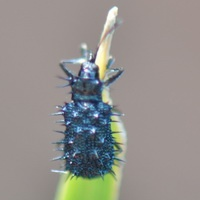insect: (56, 6, 123, 177)
